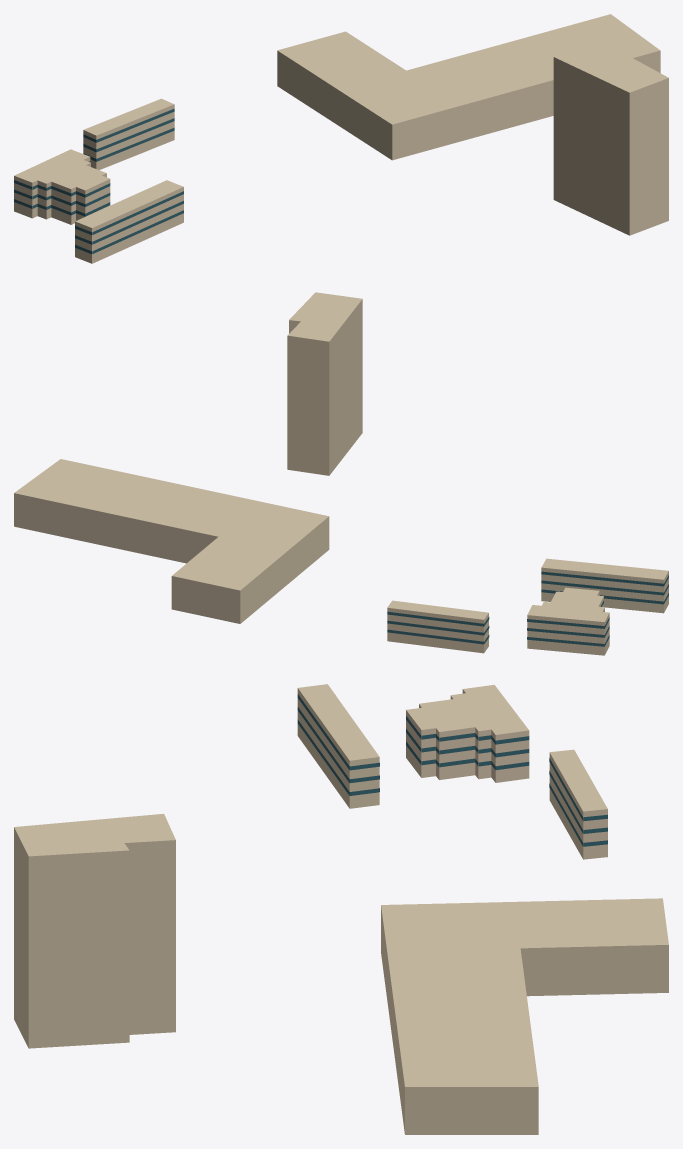
File: city_9_1.glb
3 views of the same model, one above another, from view 1: azimuth 30°, elevation 25°; view 2: azimuth 150°, elevation 25°; view 3: azimuth 270°, elevation 25° (orthographic). The views are drawn at different scales.
Visible parts, largest first — view 1: city_9_1; view 2: city_9_1; view 3: city_9_1.
Boxes of the visible parts, x1,y1,x2,y2 form: city_9_1: (14, 14, 668, 263); city_9_1: (14, 292, 668, 655); city_9_1: (14, 684, 668, 1134).
Bounding box in the file's own units: 270 × 60 × 185.
